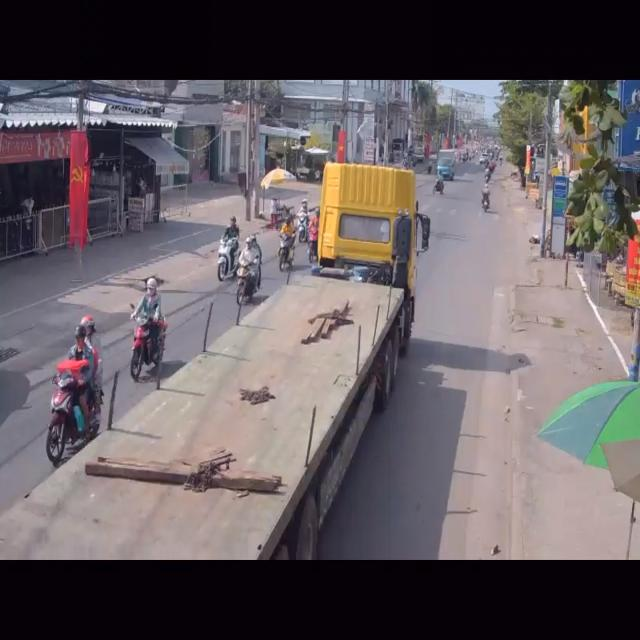motorbike: (46, 318, 106, 472), (131, 276, 166, 378), (233, 234, 260, 309), (219, 216, 243, 283), (276, 212, 298, 269), (308, 206, 318, 263), (296, 198, 307, 244), (481, 181, 490, 216)
truck: (41, 166, 432, 563)
